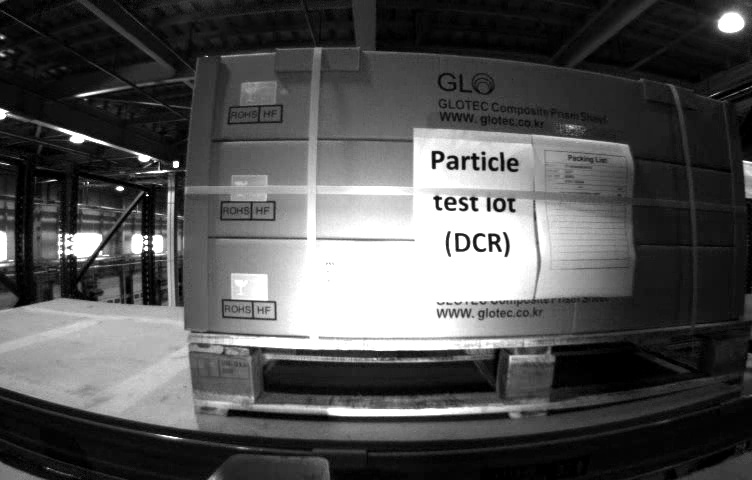True Barcode: (321, 252, 396, 297)
